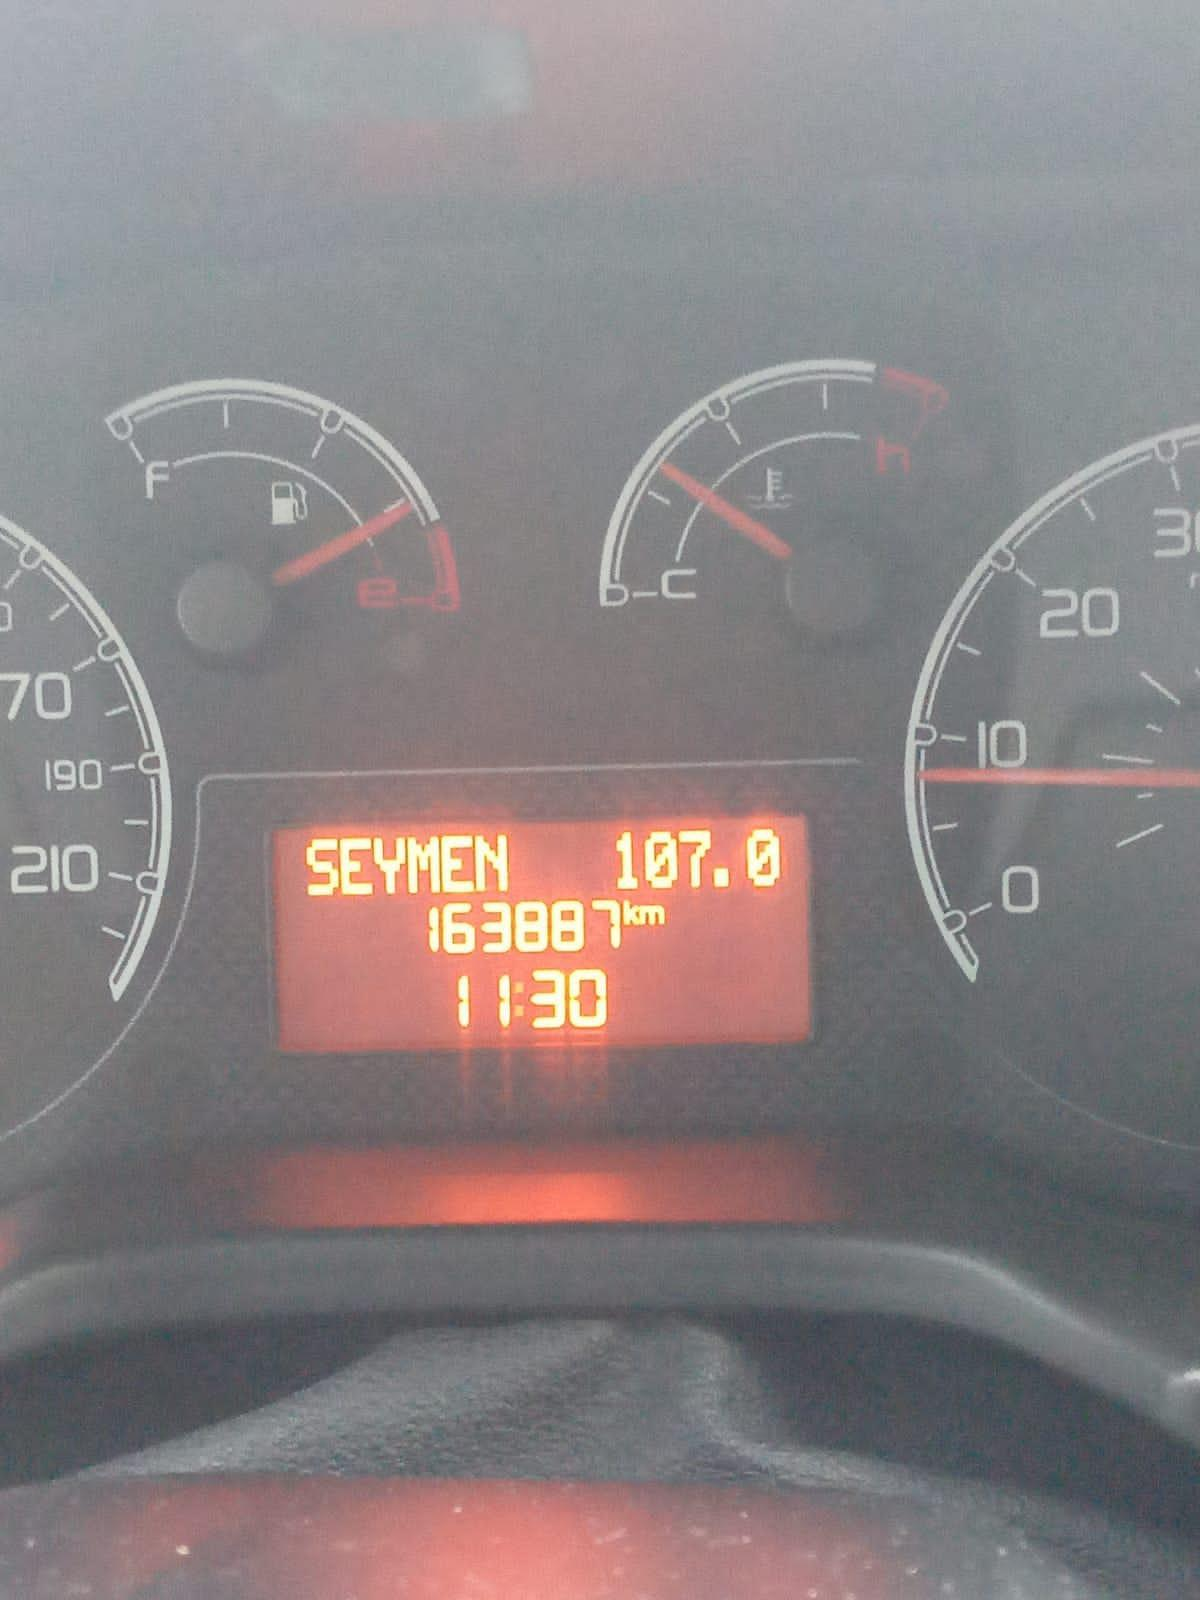,: (712, 867, 731, 887)
0: (568, 968, 608, 1029), (745, 826, 782, 888), (643, 830, 677, 889)
1: (615, 830, 638, 889), (497, 973, 512, 1027), (455, 975, 470, 1028), (427, 905, 440, 952)
3: (529, 968, 566, 1029), (479, 901, 512, 954)
6: (441, 902, 474, 954)
7: (677, 829, 711, 888), (590, 900, 621, 950)
8: (550, 900, 585, 952), (514, 901, 550, 952)
X: (305, 837, 338, 897), (372, 837, 406, 894), (440, 834, 473, 893), (339, 837, 372, 894), (474, 833, 507, 891), (407, 835, 439, 894), (639, 905, 666, 925), (621, 900, 639, 926), (514, 980, 526, 1018)
odometer: (268, 813, 813, 1054)
